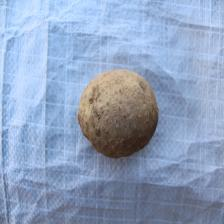Diseased-fungal potato: (76, 67, 159, 159)
